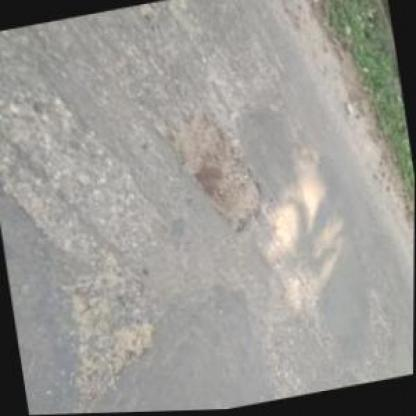pothole: (162, 96, 269, 245), (101, 317, 164, 380)
